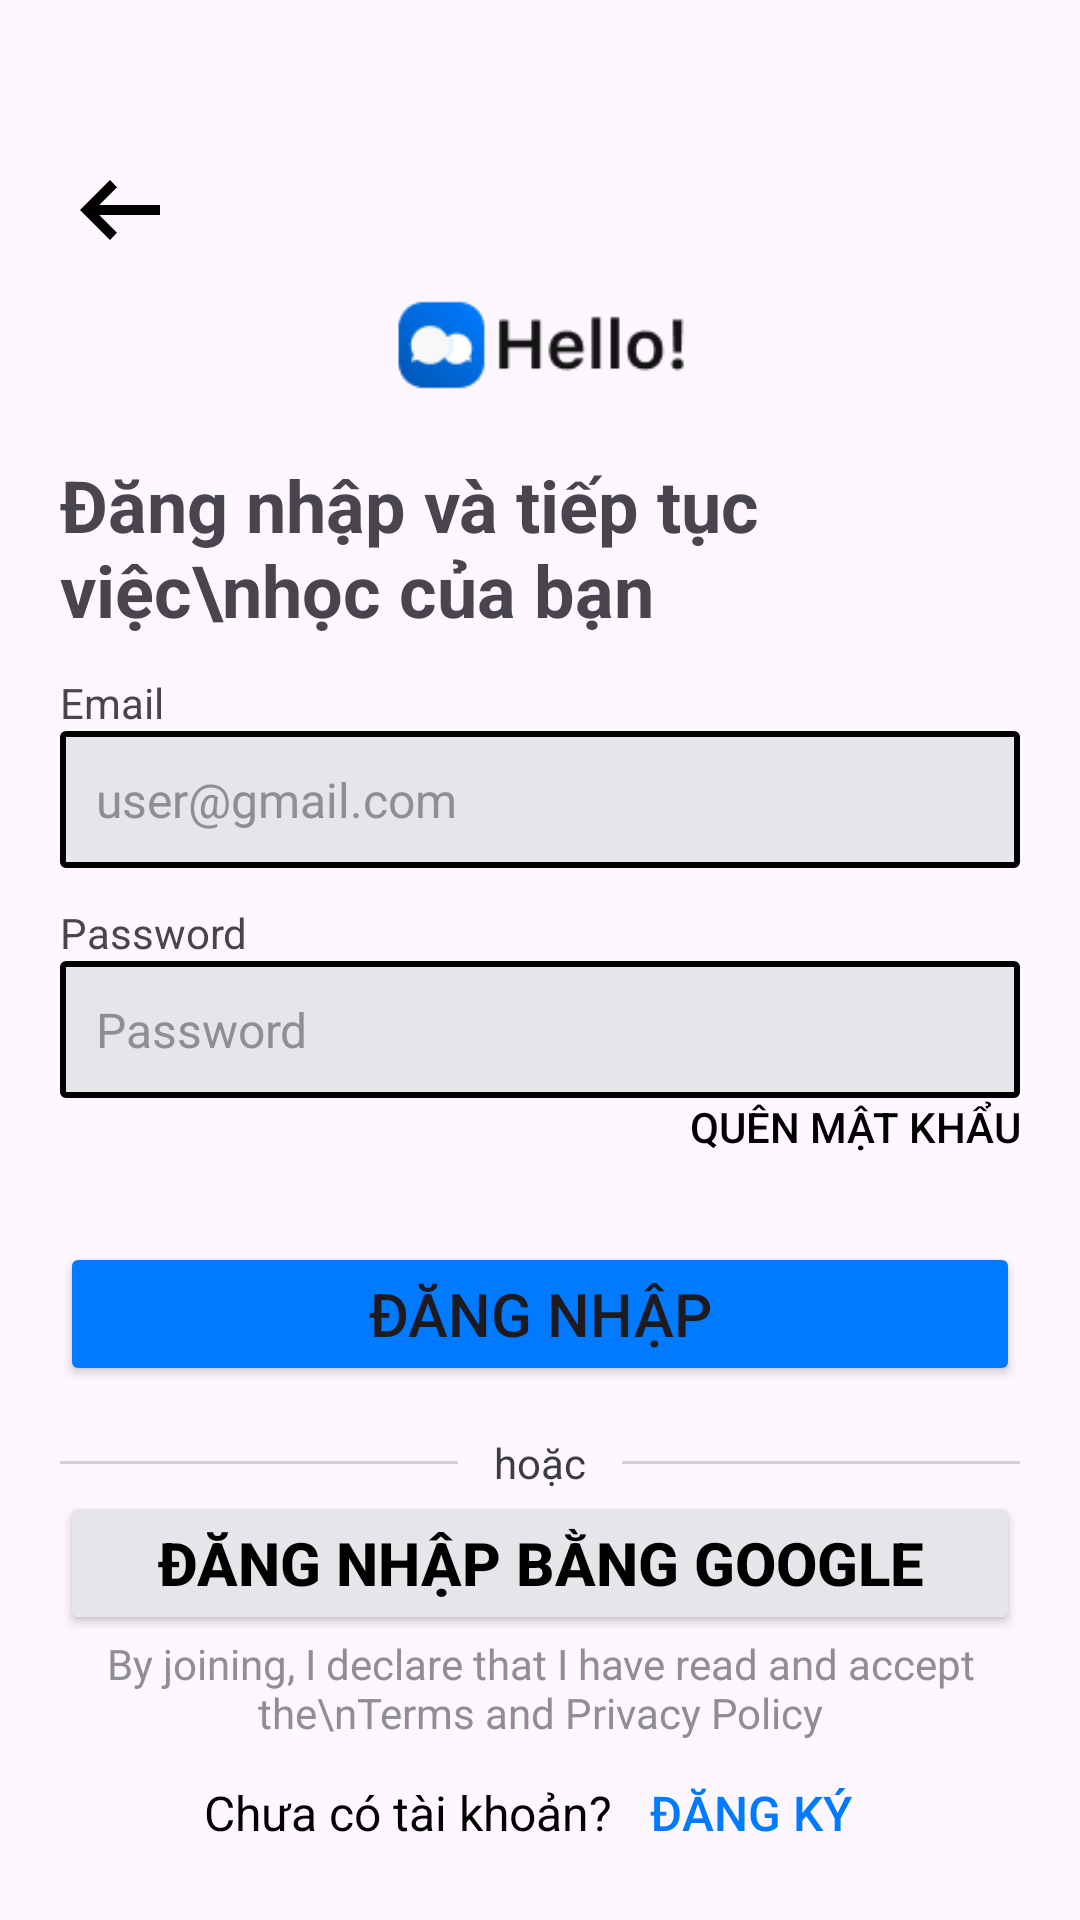

Icons on this 1080px x 1920px Android screen, each with its box as {"left": x1, "top": y1, "right": x2, "bottom": y2}:
arrow left: {"left": 80, "top": 180, "right": 160, "bottom": 240}
